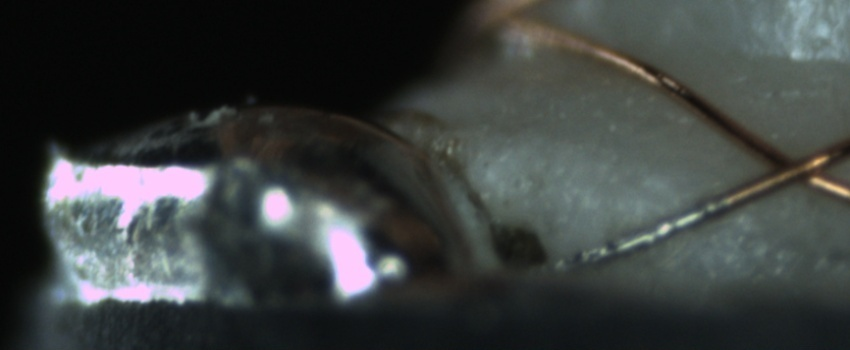CL: (742, 130, 847, 198)
TS: (512, 194, 731, 280)
TTCW: (541, 179, 730, 273)
